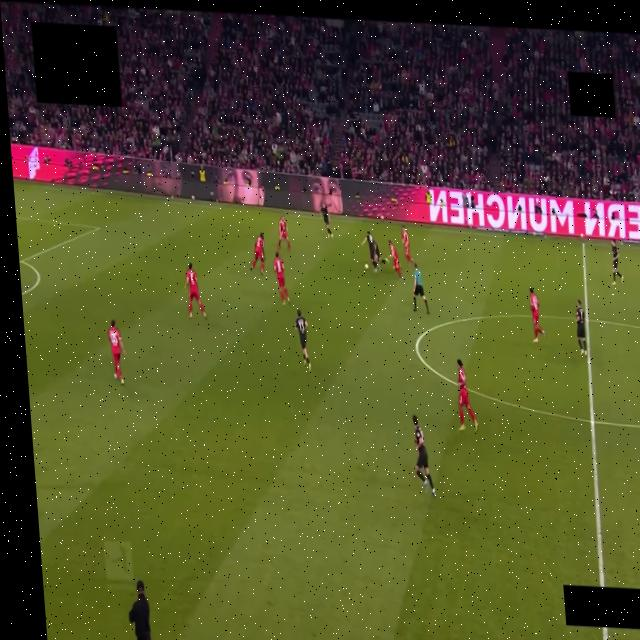ball: (365, 263, 369, 270)
player: (412, 415, 434, 496), (457, 359, 477, 431), (185, 263, 206, 319), (108, 320, 124, 385), (295, 310, 310, 371), (529, 288, 545, 343), (273, 252, 288, 304), (575, 300, 586, 356), (250, 233, 264, 275), (362, 231, 377, 270), (611, 239, 623, 286), (388, 240, 400, 279), (277, 216, 290, 251), (320, 201, 332, 238), (401, 226, 412, 264), (374, 242, 386, 271)
referee: (413, 263, 429, 314)
